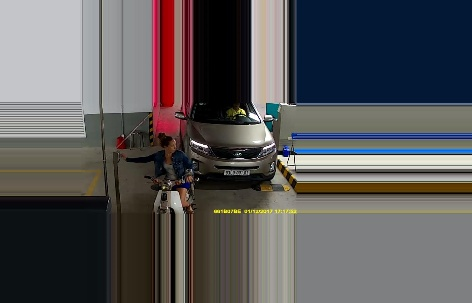plate: (222, 165, 252, 178)
